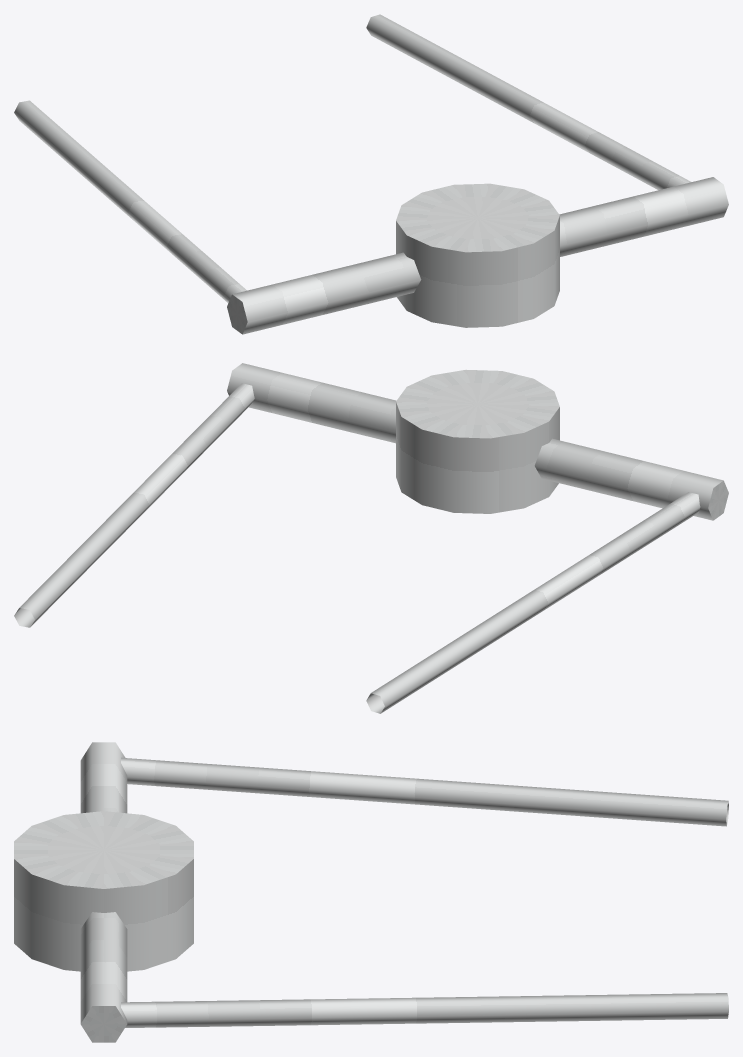
File: nycsignalarm_regular6_c0_pedestal.obj
3 views of the same model, one above another, from view 1: azimuth 30°, elevation 25°; view 2: azimuth 150°, elevation 25°; view 3: azimuth 270°, elevation 25° (orthographic). The views are drawn at different scales.
Visible parts, largest first — view 1: nycsignalarm_regular6_c0_pedestal; view 2: nycsignalarm_regular6_c0_pedestal; view 3: nycsignalarm_regular6_c0_pedestal.
Part boxes in pixels (x1,y1,x2,y2): nycsignalarm_regular6_c0_pedestal: (14,14,728,334); nycsignalarm_regular6_c0_pedestal: (14,363,728,713); nycsignalarm_regular6_c0_pedestal: (14,742,728,1042).
Size of the model in its own units: 1.5 by 0.225 by 1.72.
